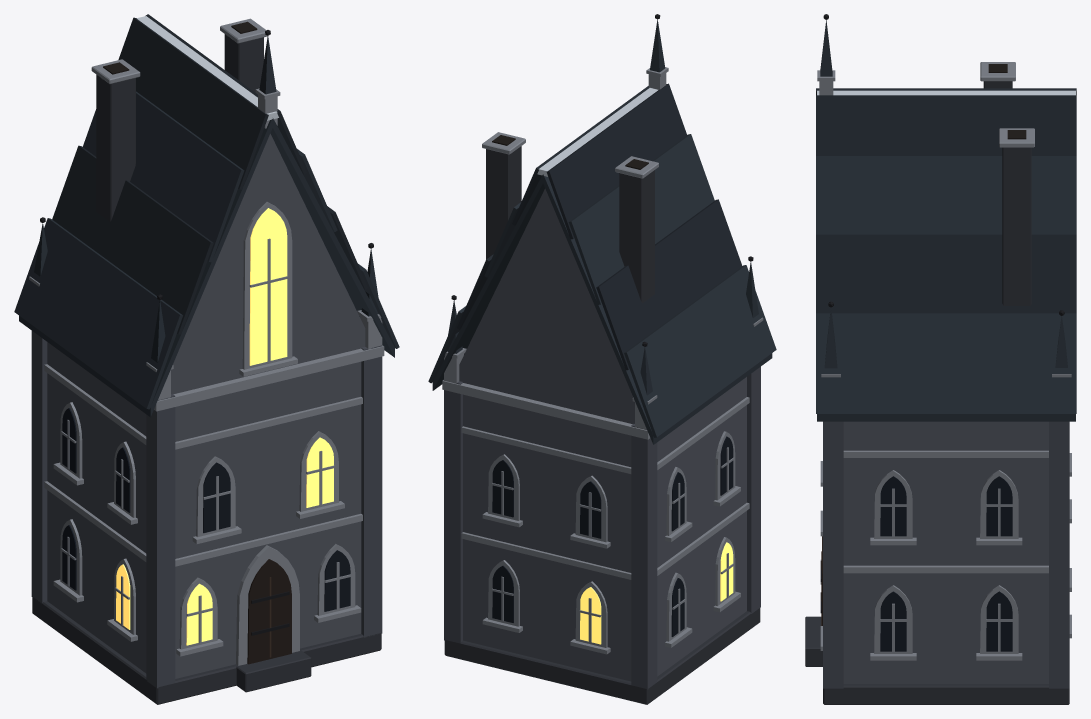
Rendered from gothic_house_c.glb.
The picture shows the model from 3 angles, left to right: view 1: azimuth 30°, elevation 25°; view 2: azimuth 150°, elevation 25°; view 3: azimuth 270°, elevation 25°; orthographic projection. The views are drawn at different scales.
Visible parts, largest first — view 1: gothic_house_c; view 2: gothic_house_c; view 3: gothic_house_c.
Part boxes in pixels (x1,y1,x2,y2): gothic_house_c: (14, 14, 399, 704); gothic_house_c: (428, 14, 776, 704); gothic_house_c: (805, 14, 1076, 704).
Bounding box in the file's own units: 6.11 × 14.94 × 5.77.
